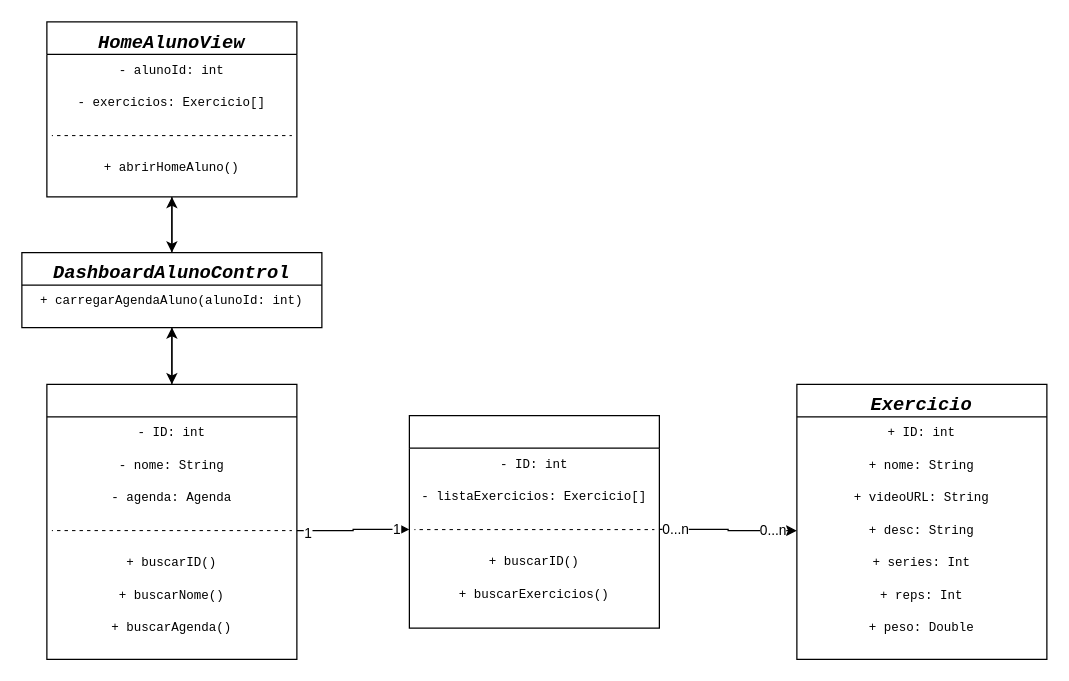
Some shapes in this 1069 by 681 pixel diagram are drawn without their labels. Here are the shapes that lost their labels. From the top down, the box of each, then its label:
(46, 383, 297, 659): Aluno
(408, 414, 659, 628): Agenda
